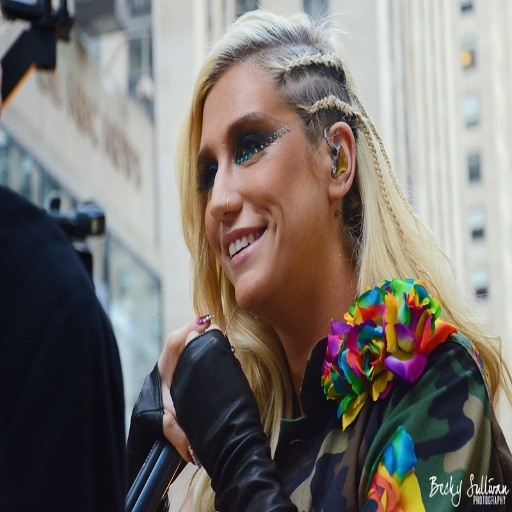hand: (157, 310, 213, 467), (177, 318, 223, 359)
